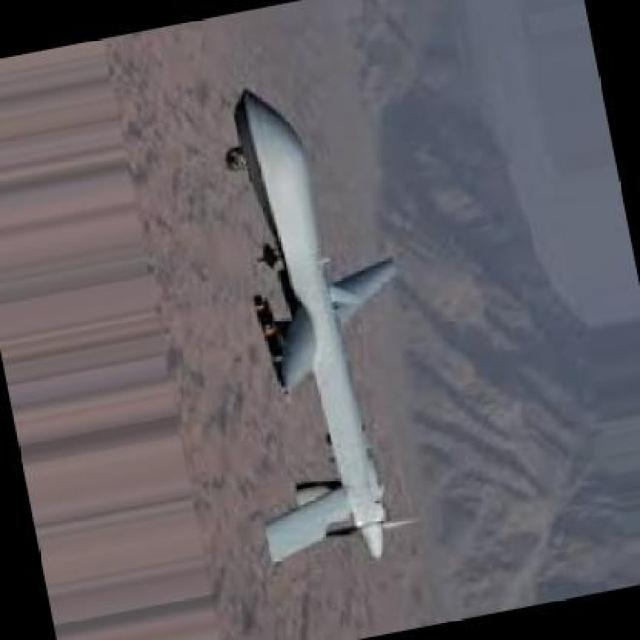iha: (208, 83, 430, 569)
